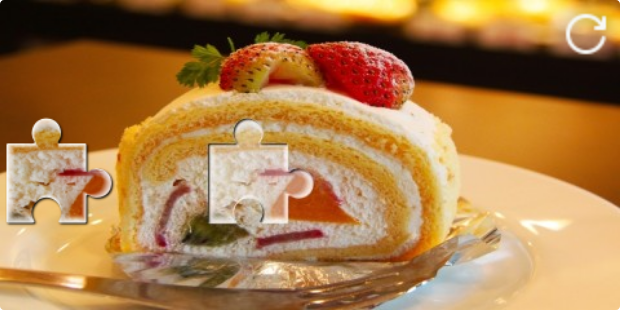target: (209, 119, 313, 223)
